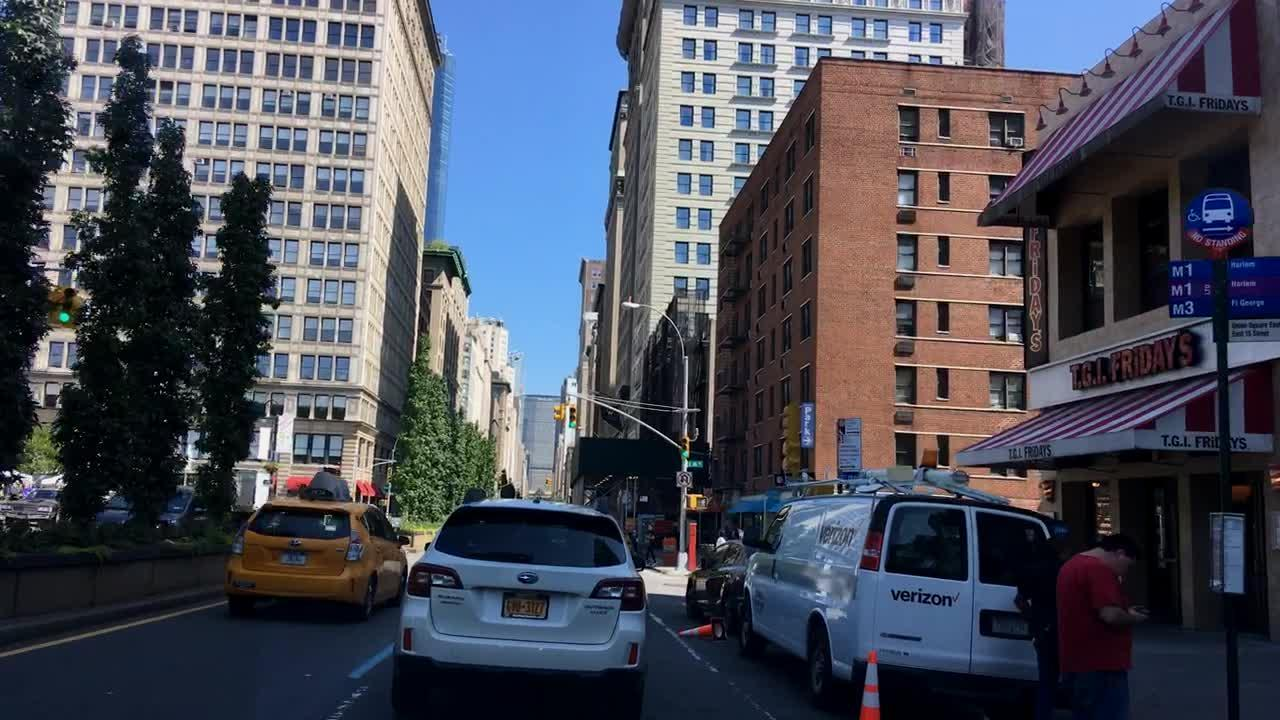Toyota: (284, 535, 306, 550)
subaru: (515, 565, 543, 587)
